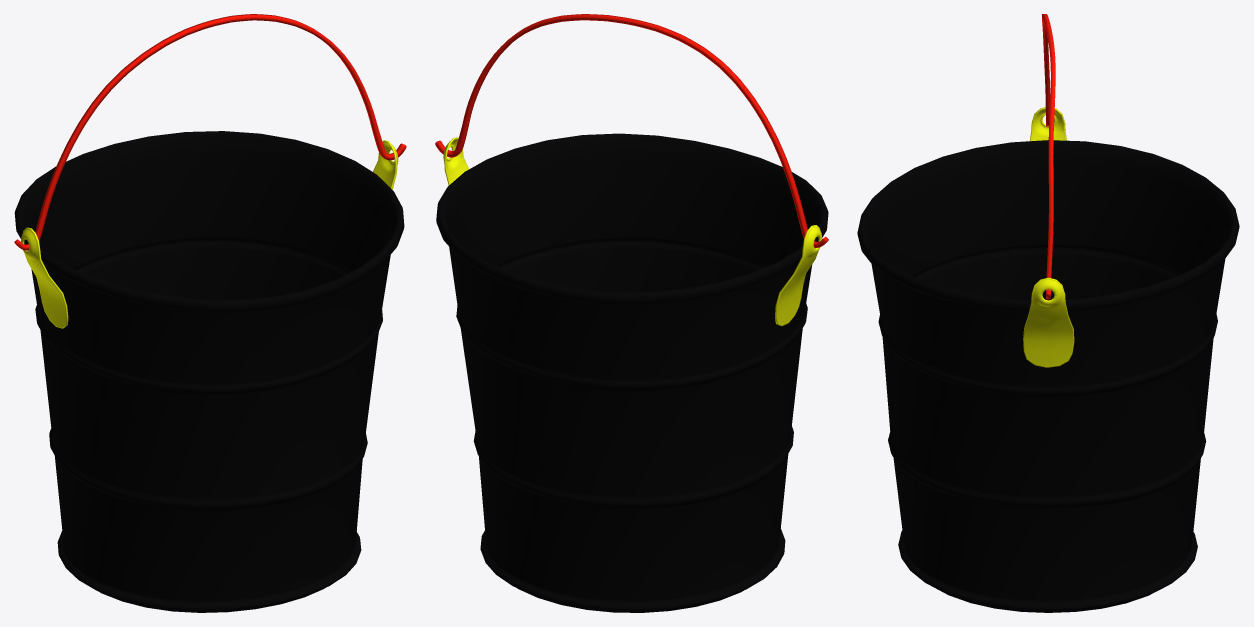
Rendered from metal_bucket.glb.
3 renders of one model, left to right at view 1: azimuth 30°, elevation 25°; view 2: azimuth 150°, elevation 25°; view 3: azimuth 270°, elevation 25°, orthographic. The views are drawn at different scales.
Parts seen in each view (by area): view 1: bucket_1, handle_0, piece02_2; view 2: bucket_1, handle_0, piece02_2; view 3: bucket_1, piece02_2, handle_0.
Part boxes in pixels (x1,y1,x2,y2): bucket_1: (14, 131, 404, 612); handle_0: (14, 14, 406, 250); piece02_2: (21, 140, 398, 328); bucket_1: (436, 133, 828, 612); handle_0: (435, 14, 828, 247); piece02_2: (443, 137, 822, 326); bucket_1: (857, 140, 1239, 612); piece02_2: (1023, 107, 1074, 367); handle_0: (1042, 14, 1055, 299).
Size of the model in its own units: 3.25 by 4.23 by 2.81.
